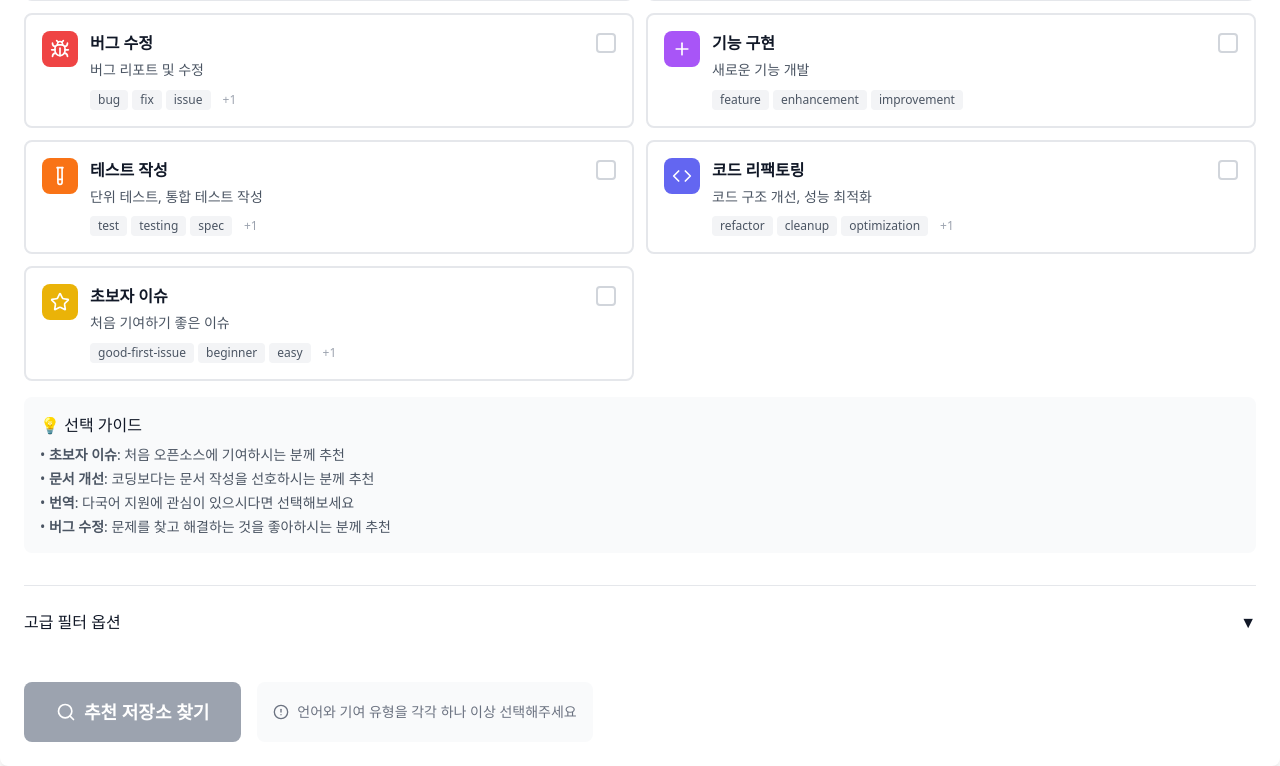
Test: SearchForm › updates filter mode description when switching modes
The image size is (1280, 766).
(page scrolled)
# Open advanced filters
Click the text "고급 필터 옵션" at x=72, y=622, box x1=24 y1=610 x2=121 y2=634
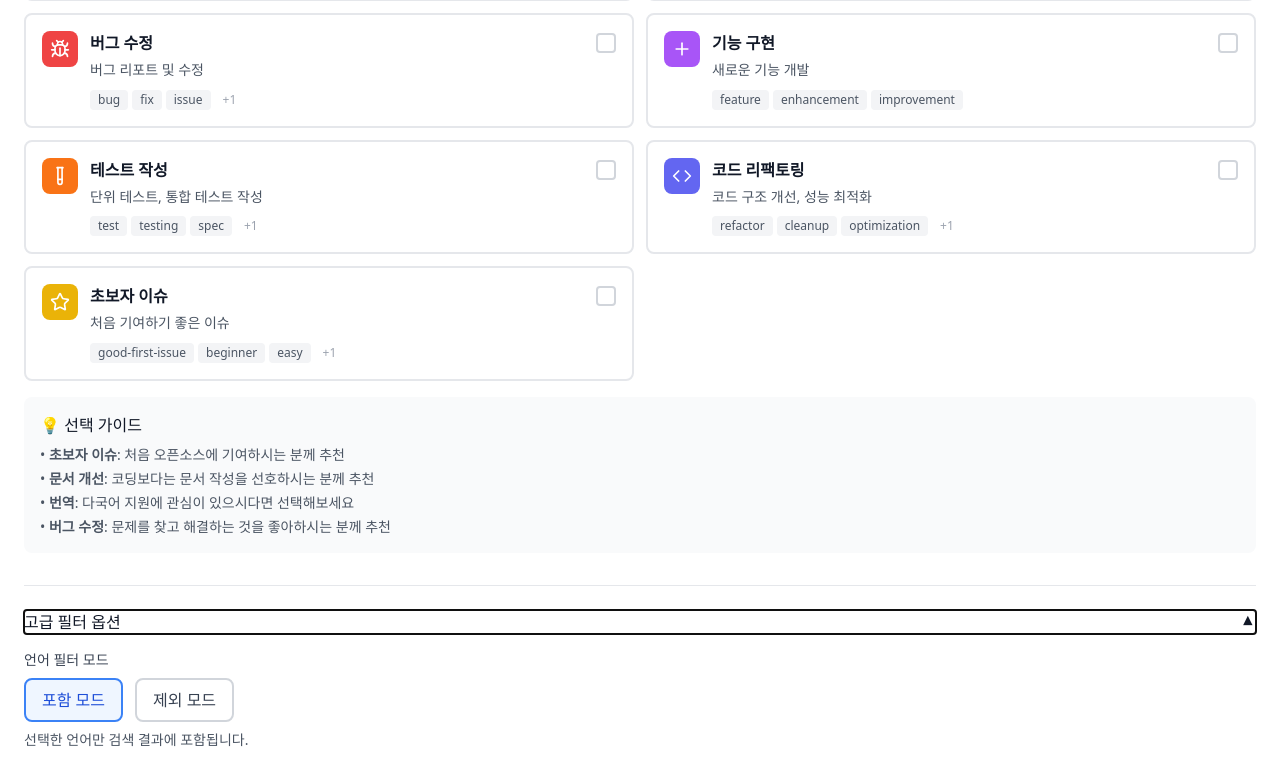
Result: the text "선택한 언어만 검색 결과에 포함됩니다." is shown at x1=24 y1=730 x2=248 y2=749
# Switch to exclude mode
Click the button "제외 모드" at x=184, y=700, box x1=135 y1=678 x2=234 y2=722
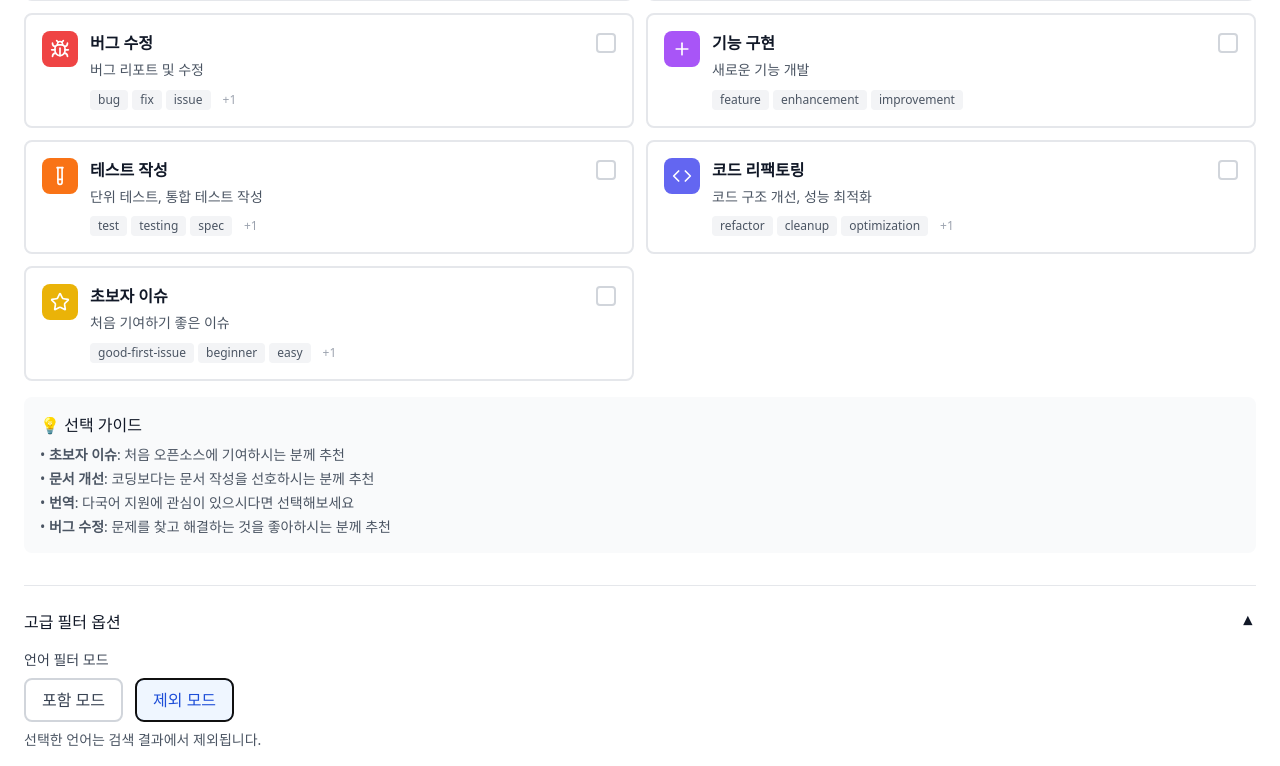
Result: the text "선택한 언어는 검색 결과에서 제외됩니다." is shown at x1=24 y1=730 x2=261 y2=749
